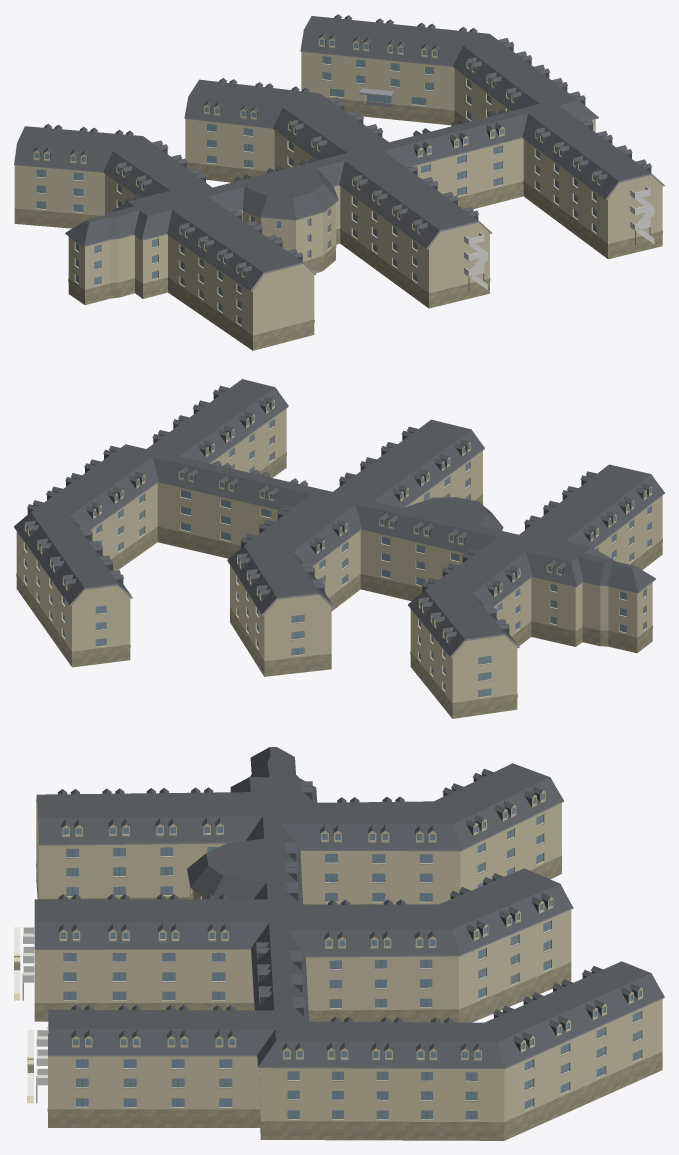
The picture shows the model from 3 angles, top to bottom: view 1: azimuth 30°, elevation 25°; view 2: azimuth 150°, elevation 25°; view 3: azimuth 270°, elevation 25°; orthographic projection. The views are drawn at different scales.
Parts seen in each view (by area): view 1: galileiGwanW3__roof, galileiGwanW3__wall, galileiGwanW3__base, galileiGwanW3__glass, galileiGwanW3__trim, galileiGwanW3__stair, galileiGwanW3__frame; view 2: galileiGwanW3__roof, galileiGwanW3__wall, galileiGwanW3__base, galileiGwanW3__glass, galileiGwanW3__trim; view 3: galileiGwanW3__roof, galileiGwanW3__wall, galileiGwanW3__base, galileiGwanW3__glass, galileiGwanW3__trim, galileiGwanW3__stair, galileiGwanW3__frame.
Part boxes in pixels (box(x1,y1,x2,y2)): galileiGwanW3__roof: box(14, 14, 651, 290); galileiGwanW3__wall: box(14, 37, 664, 338); galileiGwanW3__base: box(14, 97, 662, 350); galileiGwanW3__glass: box(34, 39, 599, 324); galileiGwanW3__trim: box(14, 16, 664, 310); galileiGwanW3__stair: box(464, 186, 654, 289); galileiGwanW3__frame: box(41, 57, 650, 323); galileiGwanW3__roof: box(14, 379, 664, 656); galileiGwanW3__wall: box(16, 399, 662, 706); galileiGwanW3__base: box(16, 452, 662, 718); galileiGwanW3__glass: box(25, 402, 650, 697); galileiGwanW3__trim: box(14, 379, 664, 681); galileiGwanW3__roof: box(34, 747, 664, 1067); galileiGwanW3__wall: box(34, 790, 662, 1124); galileiGwanW3__base: box(34, 855, 662, 1140); galileiGwanW3__glass: box(60, 793, 641, 1119); galileiGwanW3__trim: box(34, 761, 664, 1101); galileiGwanW3__stair: box(14, 927, 47, 1101); galileiGwanW3__frame: box(22, 816, 636, 1119).
Size of the model in its own units: 113 by 15.7 by 100.
Materials: 9 (1 with a texture image).
